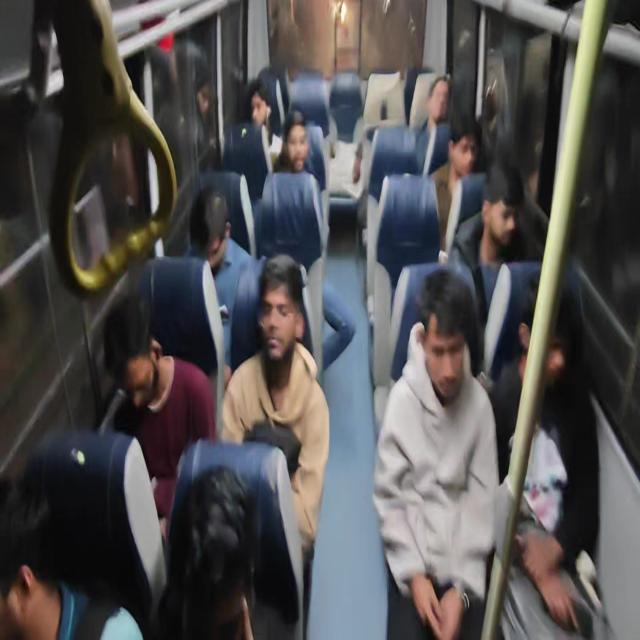person: (372, 266, 500, 638), (220, 253, 330, 636), (492, 276, 600, 638), (1, 429, 166, 639), (102, 292, 216, 545), (448, 160, 540, 378), (158, 464, 256, 638), (184, 184, 266, 372), (261, 110, 326, 260), (428, 111, 482, 255), (222, 78, 280, 200), (415, 74, 451, 174), (273, 110, 319, 178), (244, 78, 282, 154), (192, 76, 220, 170)
